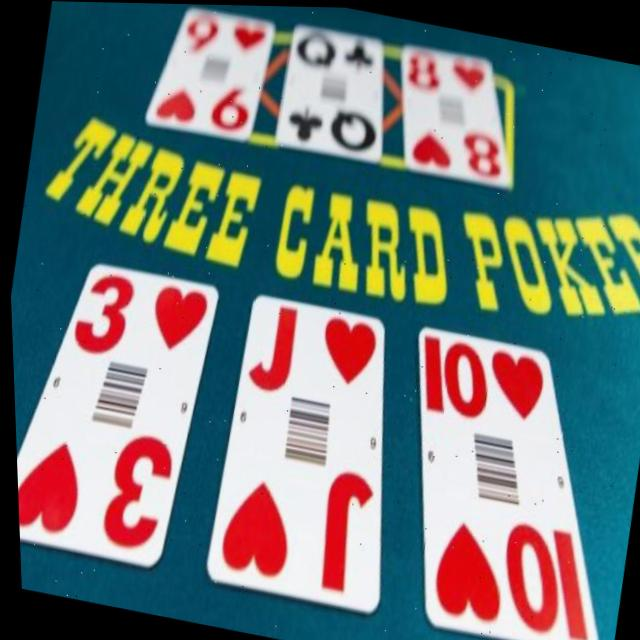Card-10: (417, 327, 592, 640)
Card-3: (13, 260, 214, 563)
Card-8: (405, 40, 506, 178)
Card-9: (144, 3, 273, 135)
Card-J: (205, 293, 380, 604)
Card-Q: (275, 21, 382, 157)
